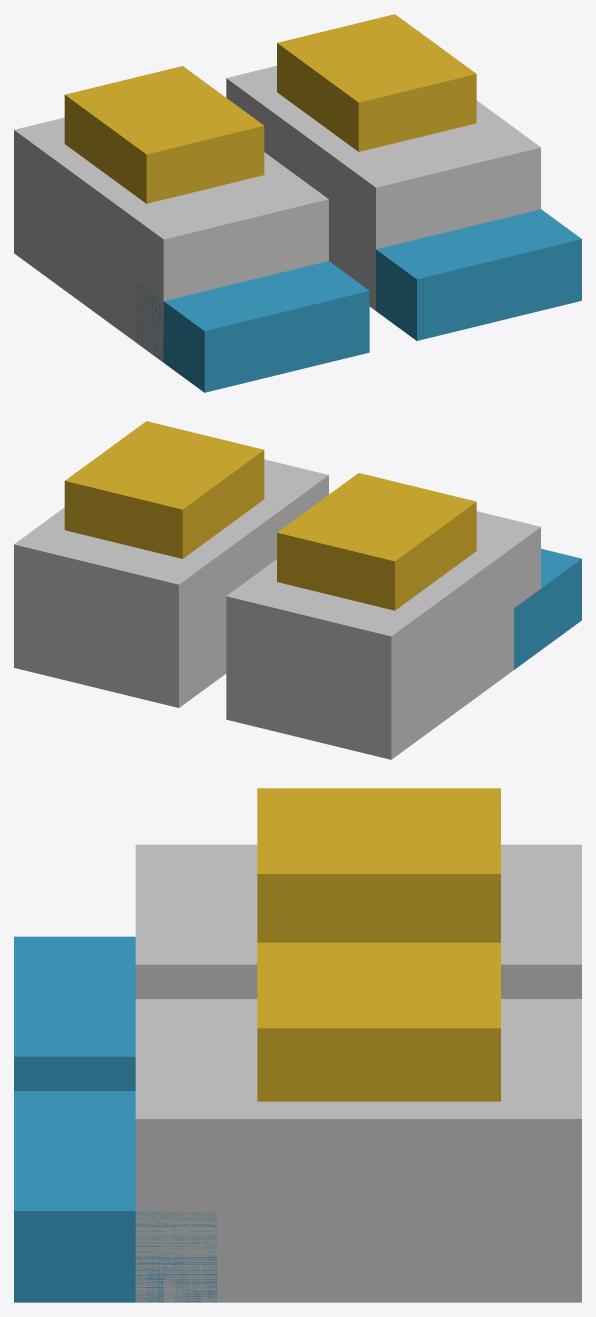
The model's file is apex_boots.obj.
The picture shows the model from 3 angles, top to bottom: view 1: azimuth 30°, elevation 25°; view 2: azimuth 150°, elevation 25°; view 3: azimuth 270°, elevation 25°; orthographic projection. The views are drawn at different scales.
Visible parts, largest first — view 1: apex_boots; view 2: apex_boots; view 3: apex_boots.
Part boxes in pixels (x1,y1,x2,y2): apex_boots: (14, 14, 581, 392); apex_boots: (14, 421, 581, 759); apex_boots: (14, 788, 581, 1302).
Bounding box in the file's own units: 0.32 × 0.14 × 0.28.
